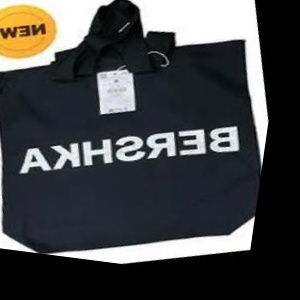bershka: (226, 55, 277, 179)
